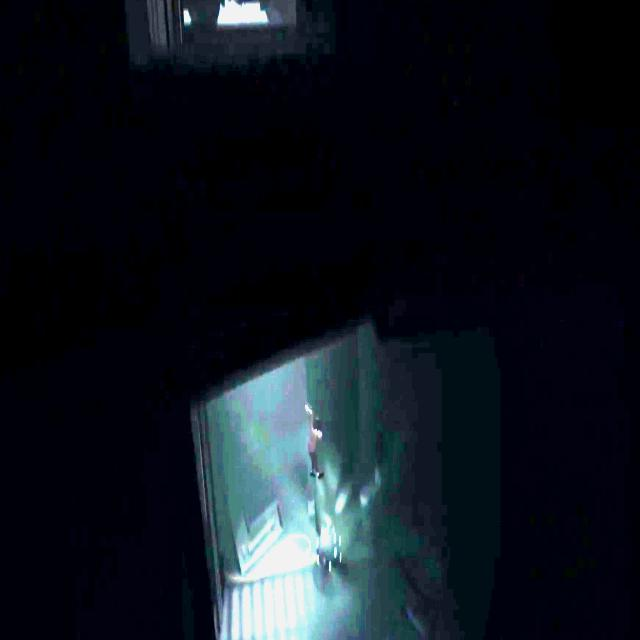boy: (301, 406, 326, 478)
